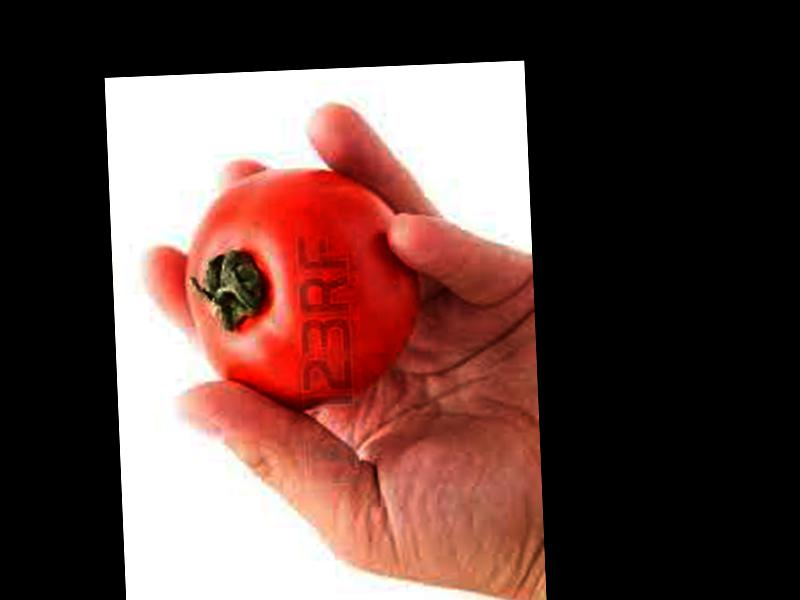Tomato: (181, 163, 422, 411)
